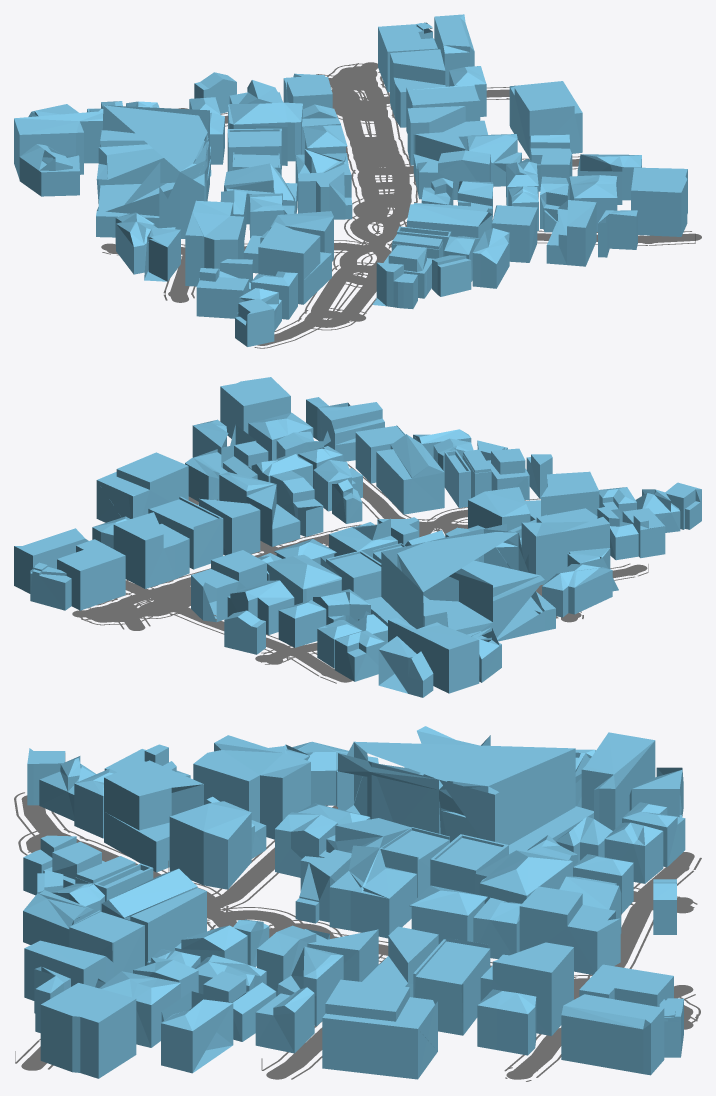
File: results_route1_lod2.obj
The picture shows the model from 3 angles, top to bottom: view 1: azimuth 30°, elevation 25°; view 2: azimuth 150°, elevation 25°; view 3: azimuth 270°, elevation 25°; orthographic projection. The views are drawn at different scales.
Bounding box in the file's own units: 129 × 16.97 × 124.
